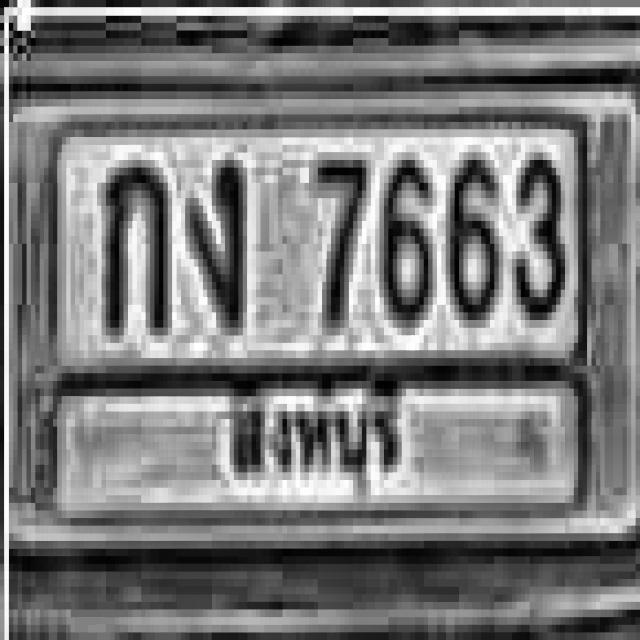license-plate: (18, 79, 640, 547)
